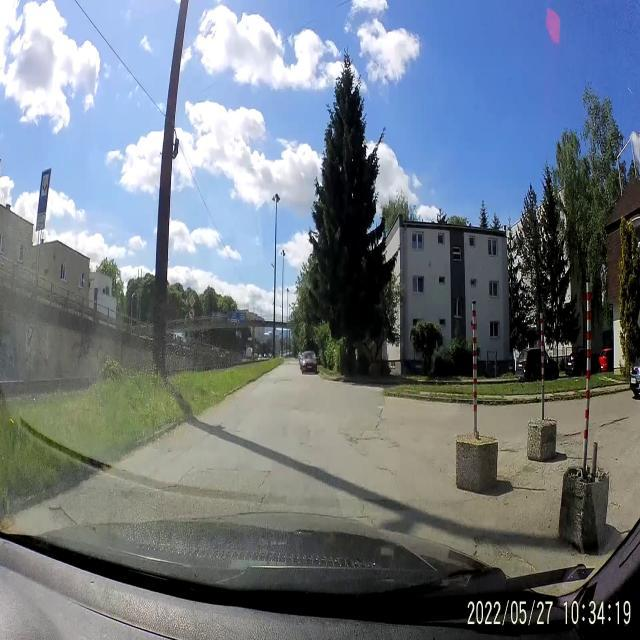Pothole: (46, 500, 79, 528), (346, 434, 388, 448), (376, 459, 397, 478), (373, 402, 386, 432)
